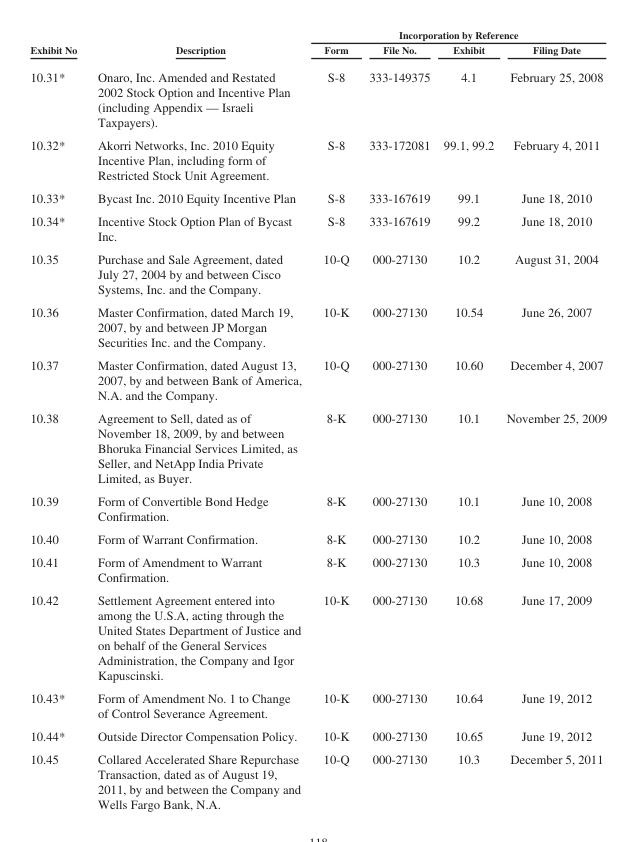table: (29, 28, 606, 810)
table column: (86, 28, 311, 810), (499, 28, 606, 810), (358, 28, 436, 810), (436, 28, 499, 810), (29, 28, 86, 810), (311, 28, 358, 810)
table column header: (29, 28, 606, 62)
table row: (29, 587, 606, 686), (29, 406, 606, 489), (29, 62, 606, 133), (29, 747, 606, 810), (29, 133, 606, 186), (29, 247, 606, 300), (29, 300, 606, 353), (29, 353, 606, 406), (29, 209, 606, 247), (29, 489, 606, 527), (29, 686, 606, 724), (29, 550, 606, 587), (29, 186, 606, 209), (29, 527, 606, 550), (29, 724, 606, 747), (29, 41, 606, 62), (29, 28, 606, 41)
table spanning cell: (86, 28, 311, 62), (311, 28, 606, 41), (29, 28, 86, 62)
